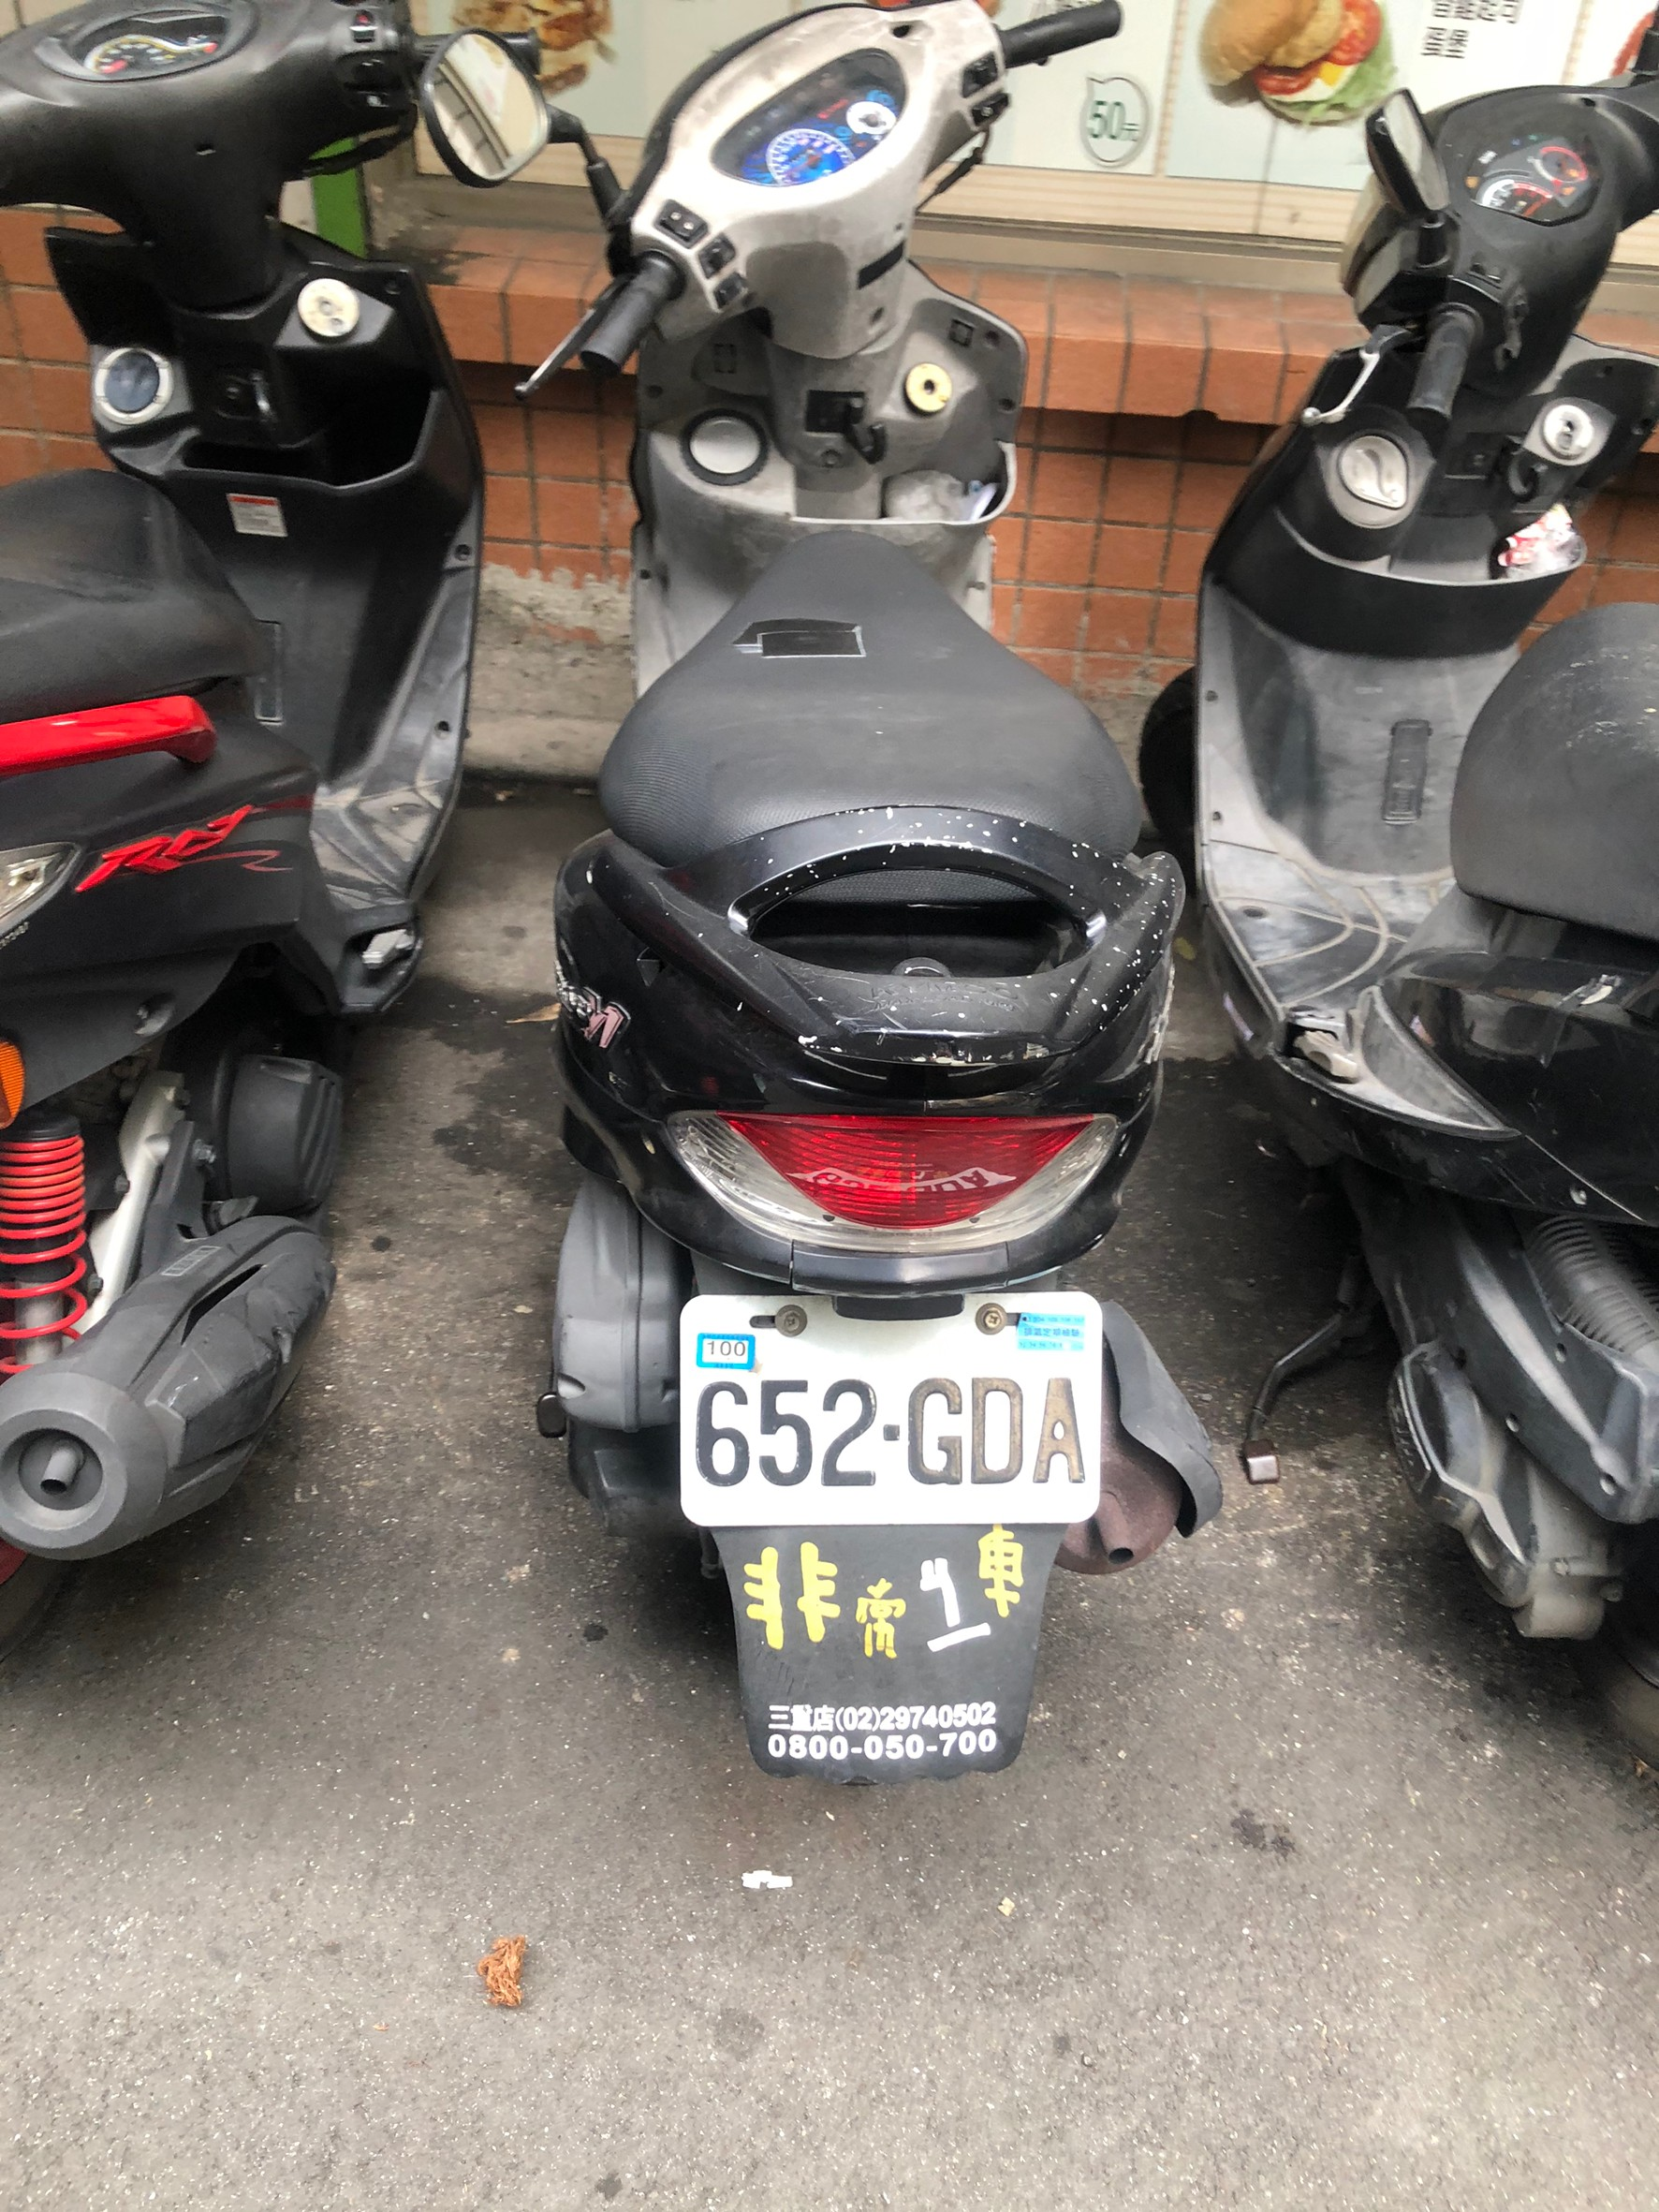LP: (664, 1290, 1108, 1532)
